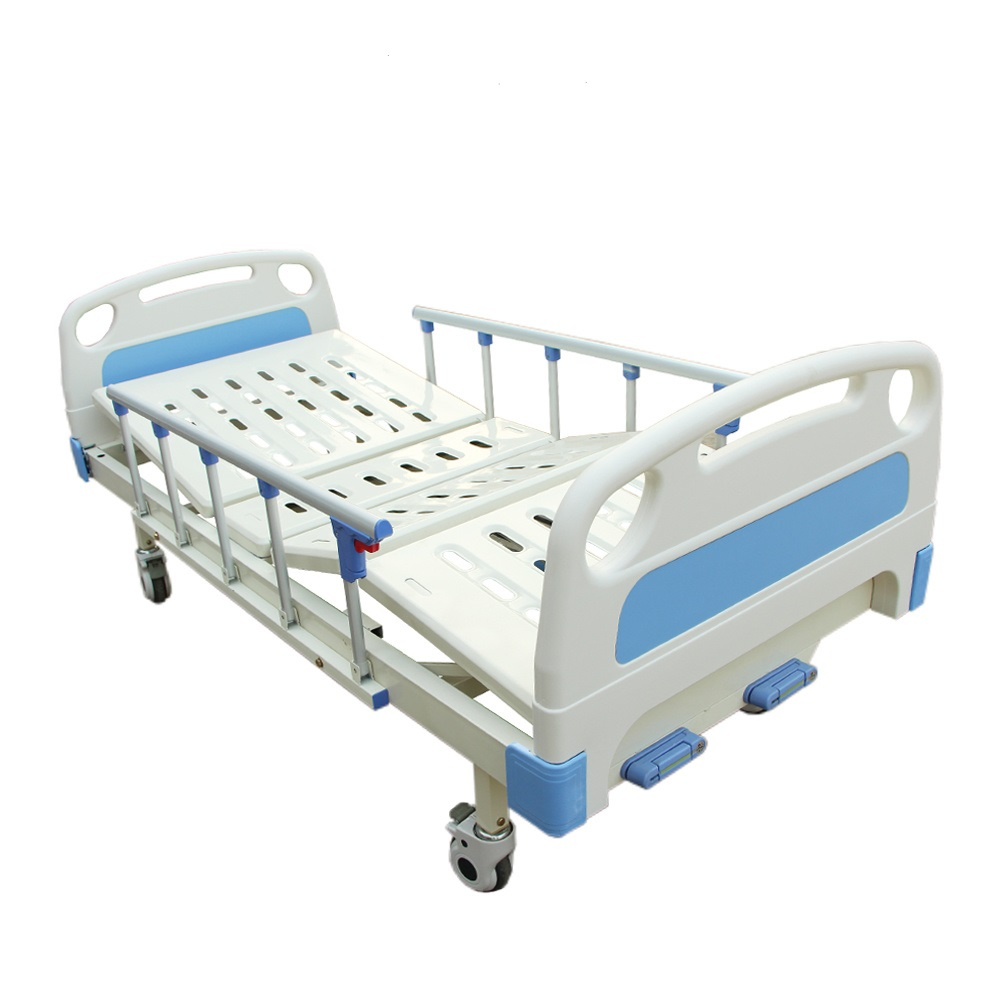trolley_bed: (53, 245, 941, 898)
